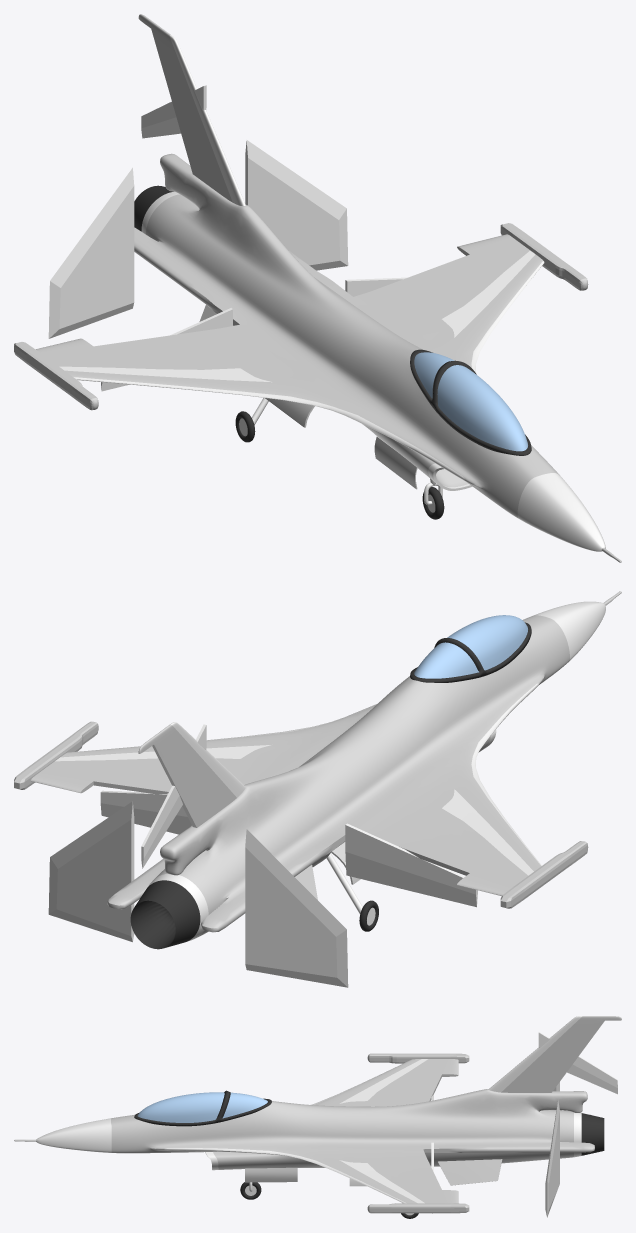
The model's file is fbxModel.fbx.
3 renders of one model, top to bottom at view 1: azimuth 30°, elevation 25°; view 2: azimuth 150°, elevation 25°; view 3: azimuth 270°, elevation 25°, orthographic. The views are drawn at different scales.
Parts seen in each view (by area): view 1: Body, Tail Fin, Cockpit Glass, Cockpit Frame, Rudder, Front Gear Cover_L.001, Aileron_R; view 2: Body, Tail Fin, Aileron_R, Cockpit Glass, Aileron_L, Rudder, Cockpit Frame, Rear Gear_R; view 3: Body, Cockpit Glass, Tail Fin, Rudder, Front Gear Cover_L, Cockpit Frame, Front Gear.
Boxes of the visible parts, x1,y1,x2,y2 form: Body: (14, 14, 621, 562); Tail Fin: (48, 140, 348, 338); Cockpit Glass: (414, 352, 527, 451); Cockpit Frame: (410, 349, 531, 455); Rudder: (141, 85, 206, 138); Front Gear Cover_L.001: (374, 436, 417, 489); Aileron_R: (101, 308, 232, 391); Body: (14, 591, 621, 949); Tail Fin: (48, 801, 348, 987); Aileron_R: (345, 823, 477, 907); Cockpit Glass: (414, 615, 527, 678); Aileron_L: (100, 790, 191, 834); Rudder: (141, 724, 206, 868); Cockpit Frame: (410, 622, 531, 682); Rear Gear_R: (326, 853, 378, 931); Body: (14, 1016, 621, 1213); Cockpit Glass: (137, 1092, 267, 1122); Tail Fin: (545, 1082, 559, 1217); Rudder: (538, 1032, 617, 1094); Front Gear Cover_L: (245, 1168, 297, 1182); Cockpit Frame: (134, 1090, 271, 1126); Front Gear: (240, 1182, 261, 1199).
Size of the model in its own units: 1567 by 876 by 2629.
